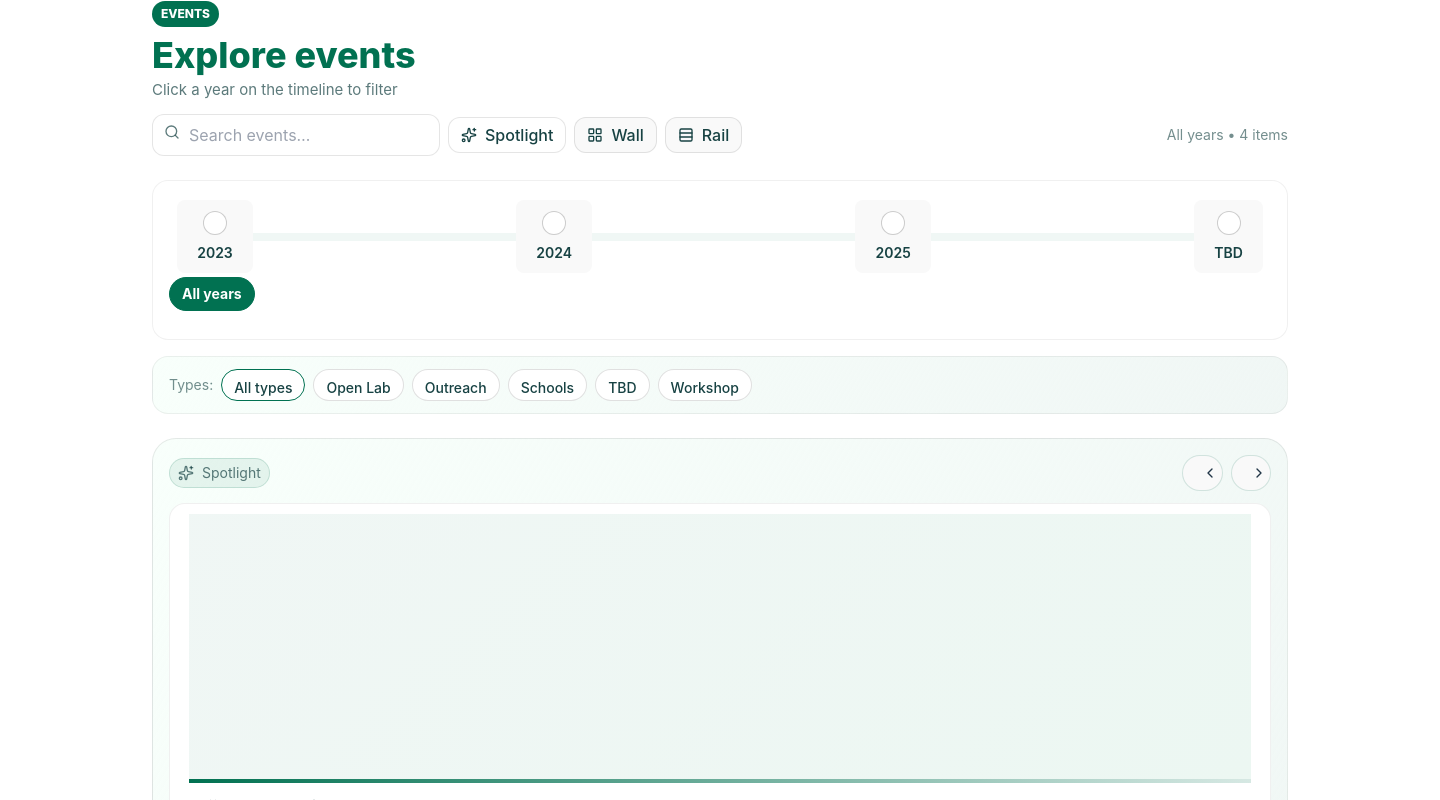
it: EventShowcase – year/type filters & spotlight interactions › 搜索空态（无 Competition chip 则用搜索造空态）
This screenshot has width=1440, height=800.
Type "###no-match###" into the field with placeholder "Search events…" at (296, 134), box [152, 114, 440, 156]
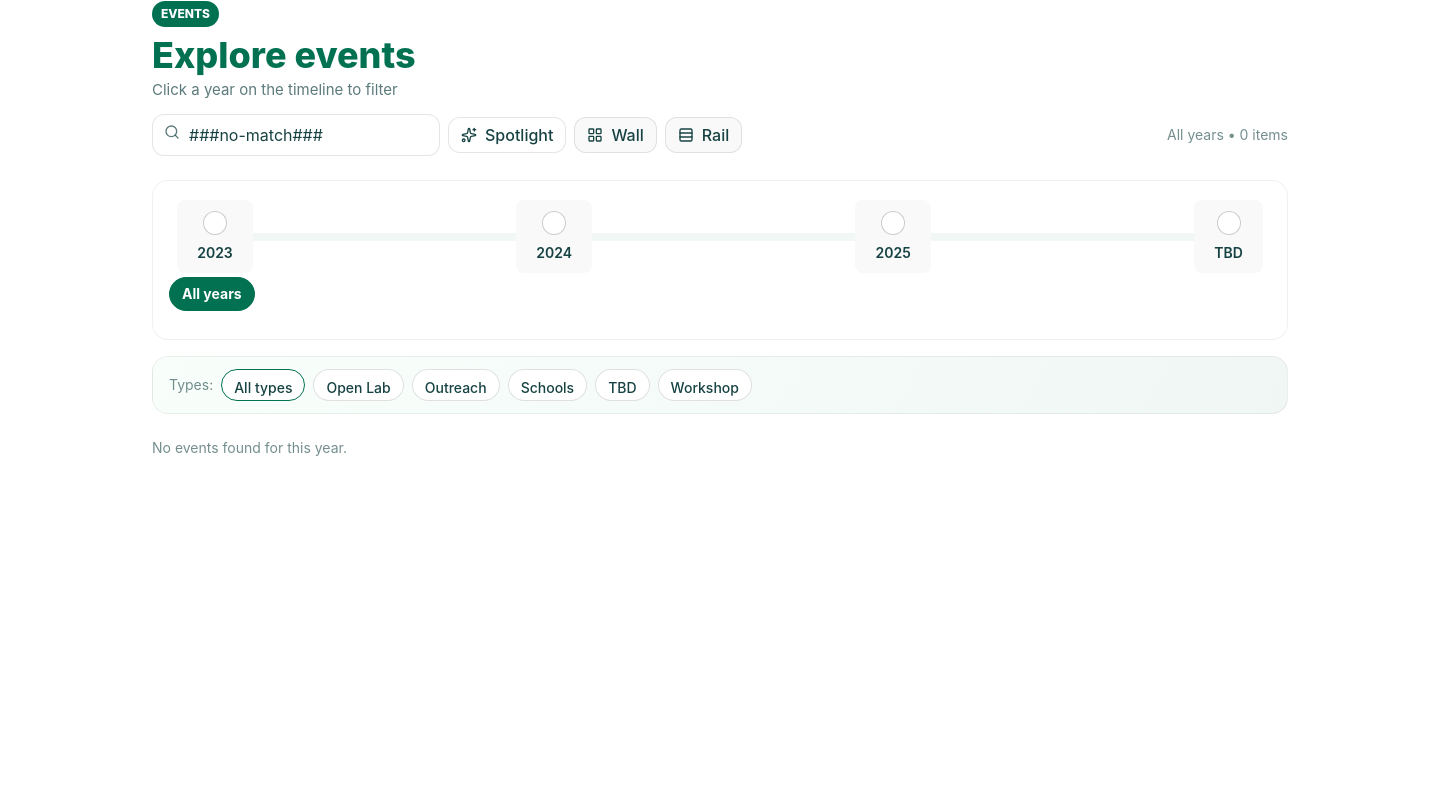
Now the text "No events found for this year." is shown, box [152, 438, 347, 456]
